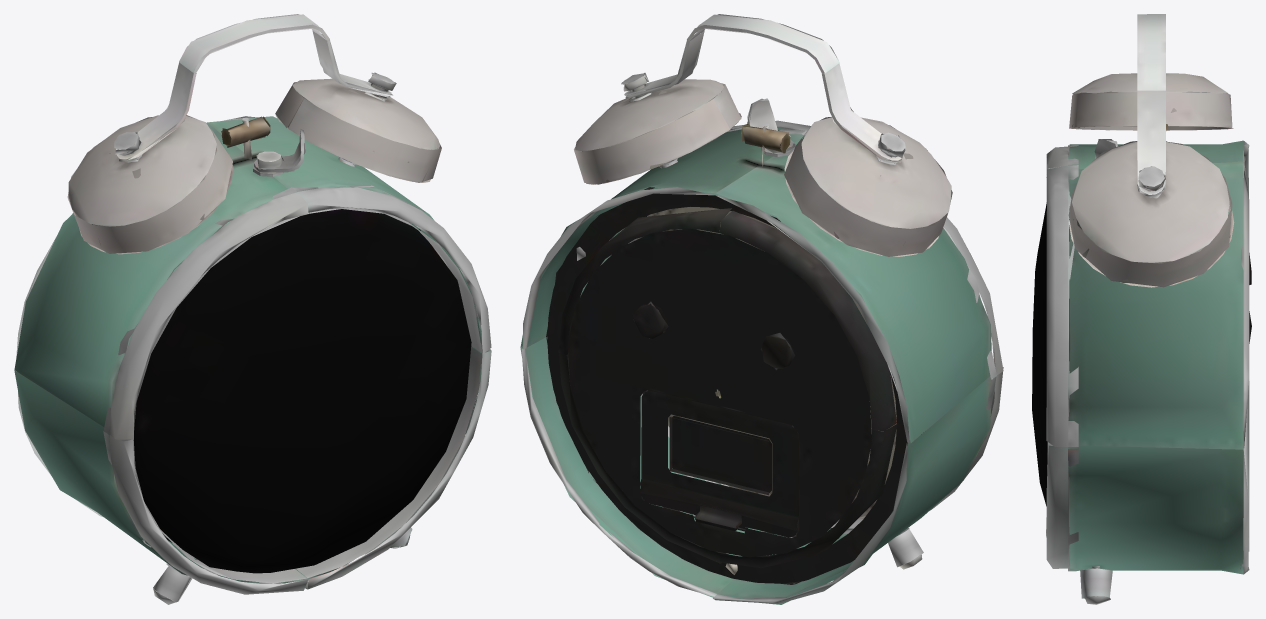
The model's file is alarm_clock_01.glb.
3 renders of one model, left to right at view 1: azimuth 30°, elevation 25°; view 2: azimuth 150°, elevation 25°; view 3: azimuth 270°, elevation 25°, orthographic. The views are drawn at different scales.
Parts seen in each view (by area): view 1: alarm_clock_01; view 2: alarm_clock_01; view 3: alarm_clock_01.
Boxes of the visible parts, x1,y1,x2,y2 form: alarm_clock_01: (14,14,491,604); alarm_clock_01: (520,14,1003,604); alarm_clock_01: (1032,14,1251,604).
Size of the model in its own units: 0.1322 by 0.1746 by 0.0667.
Materials: 2 (2 with a texture image).
